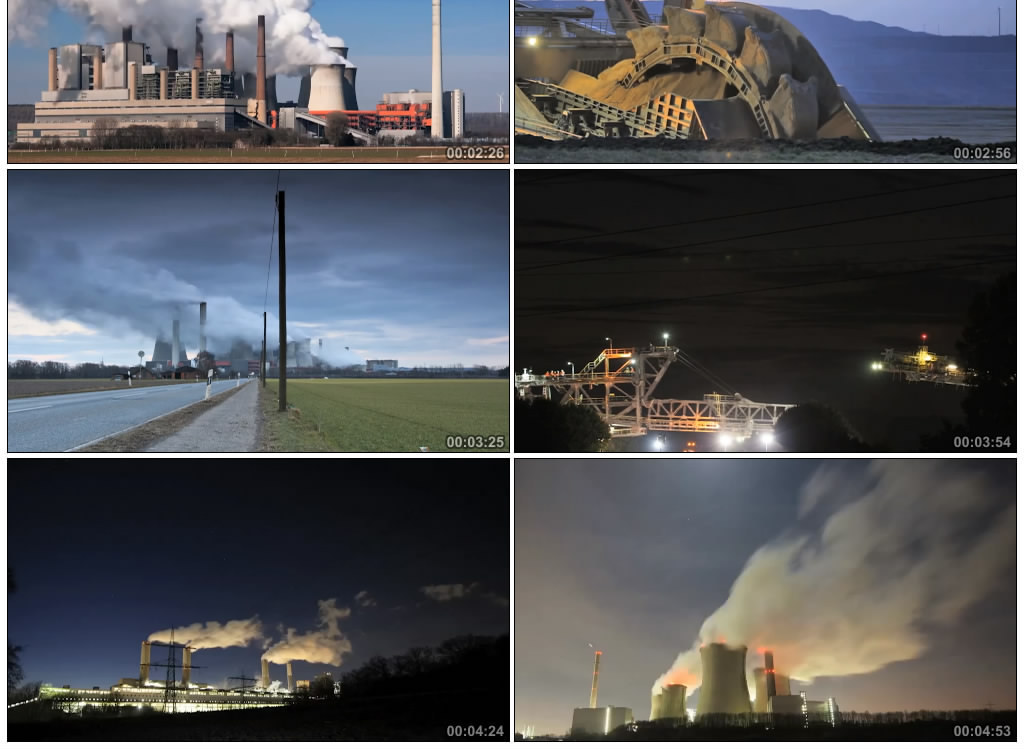dust: (715, 569, 966, 666), (99, 261, 314, 362), (114, 4, 375, 82), (244, 605, 371, 671), (619, 621, 726, 693), (134, 608, 250, 656)
